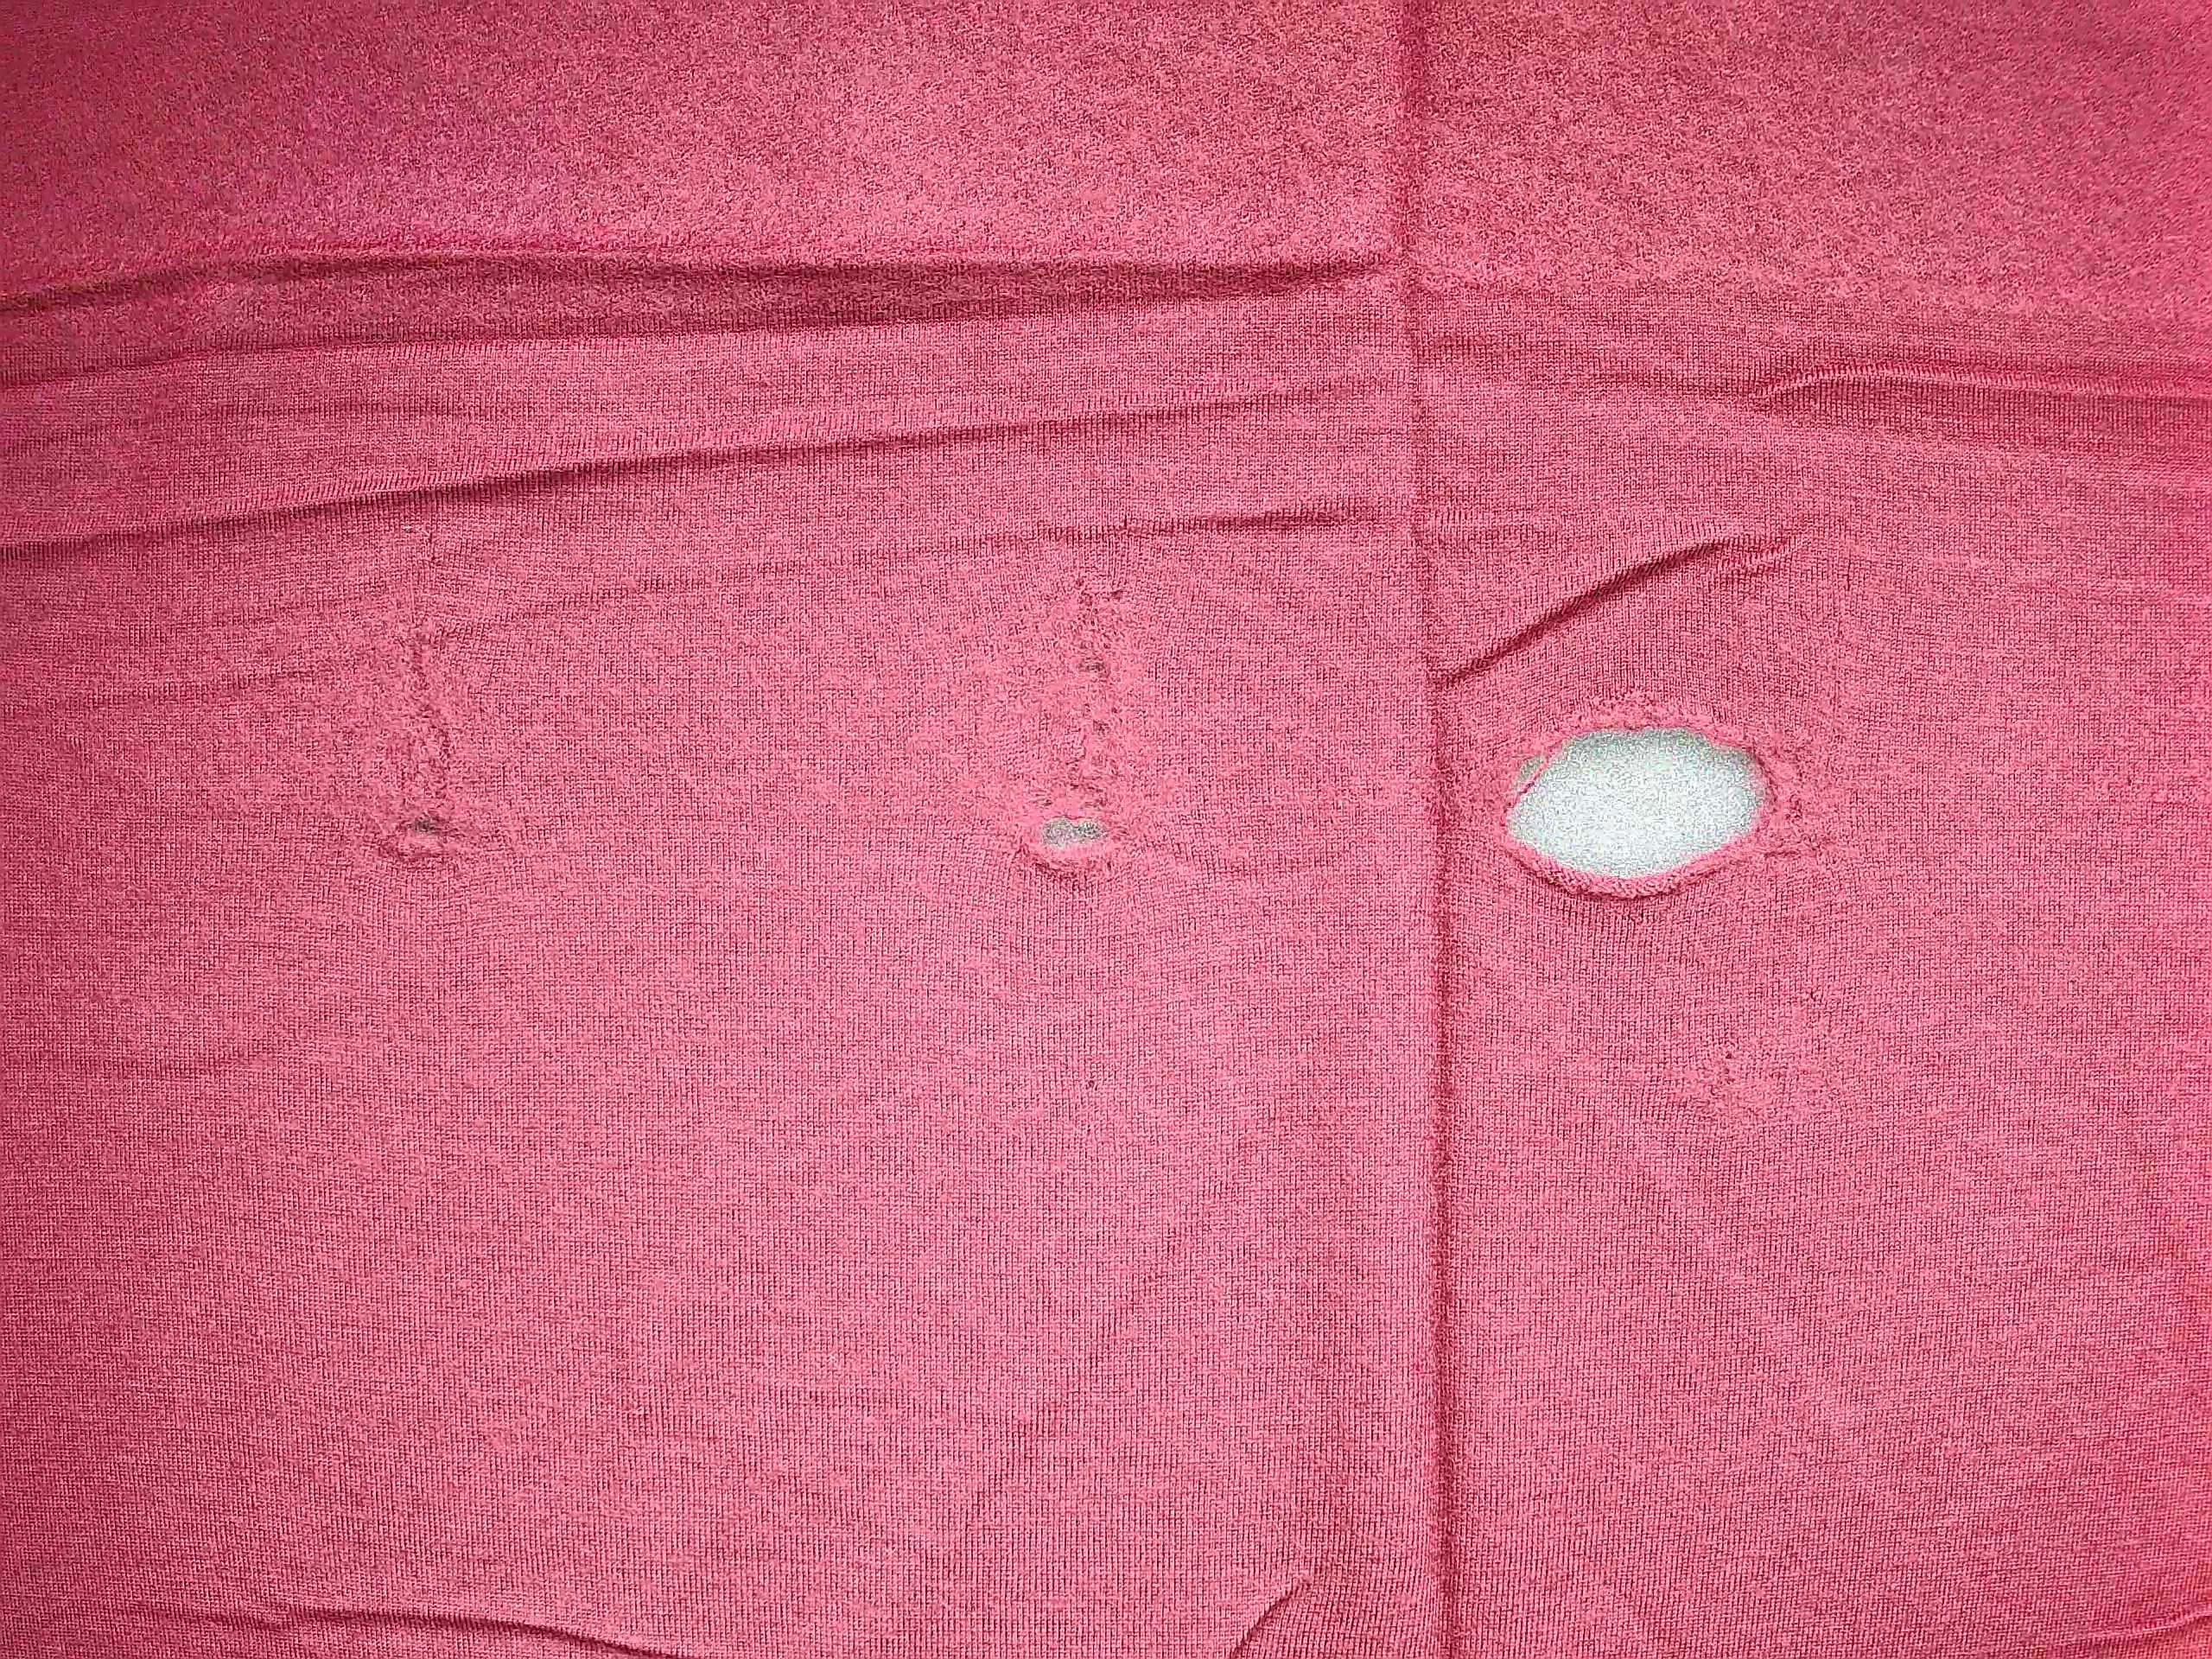others: (1453, 645, 1848, 939), (1007, 490, 1183, 927), (357, 498, 509, 924)
